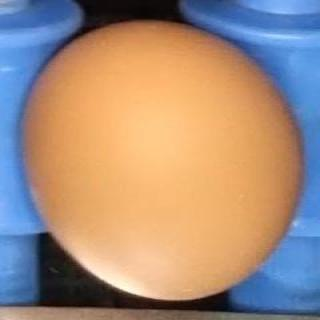Telur: (12, 18, 308, 303)
